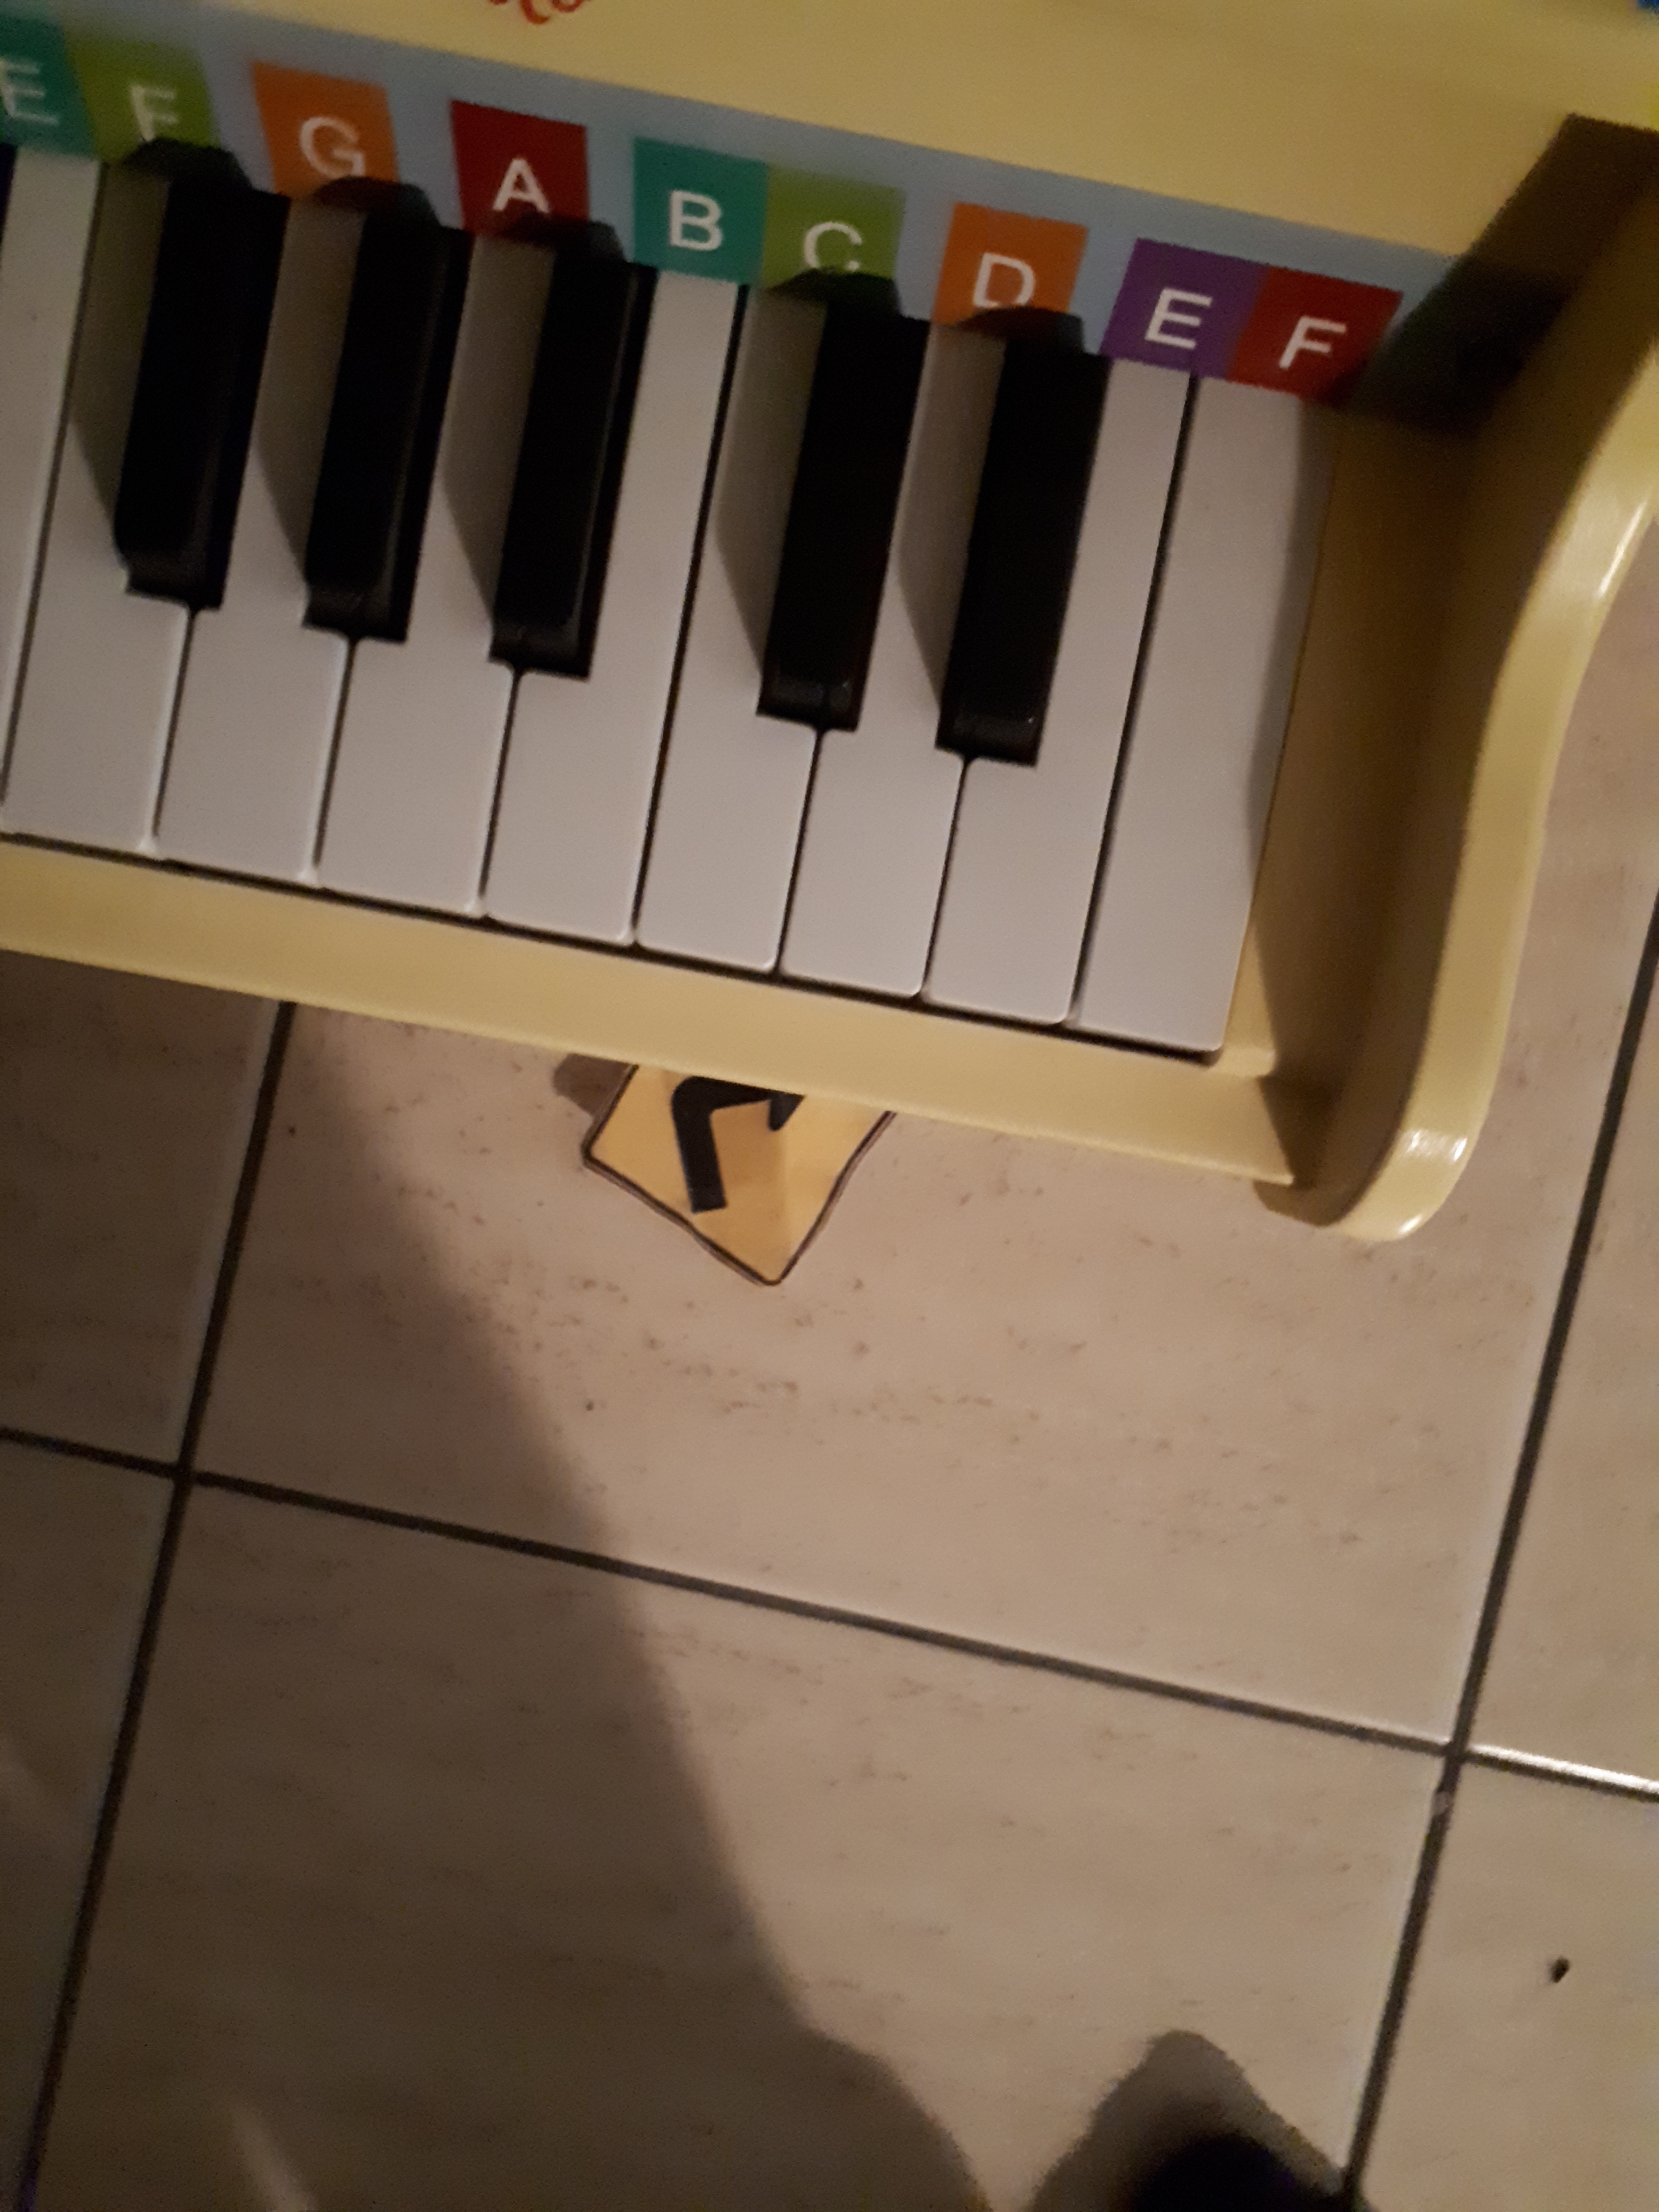right: (526, 941, 943, 1331), (617, 1035, 859, 1167)
